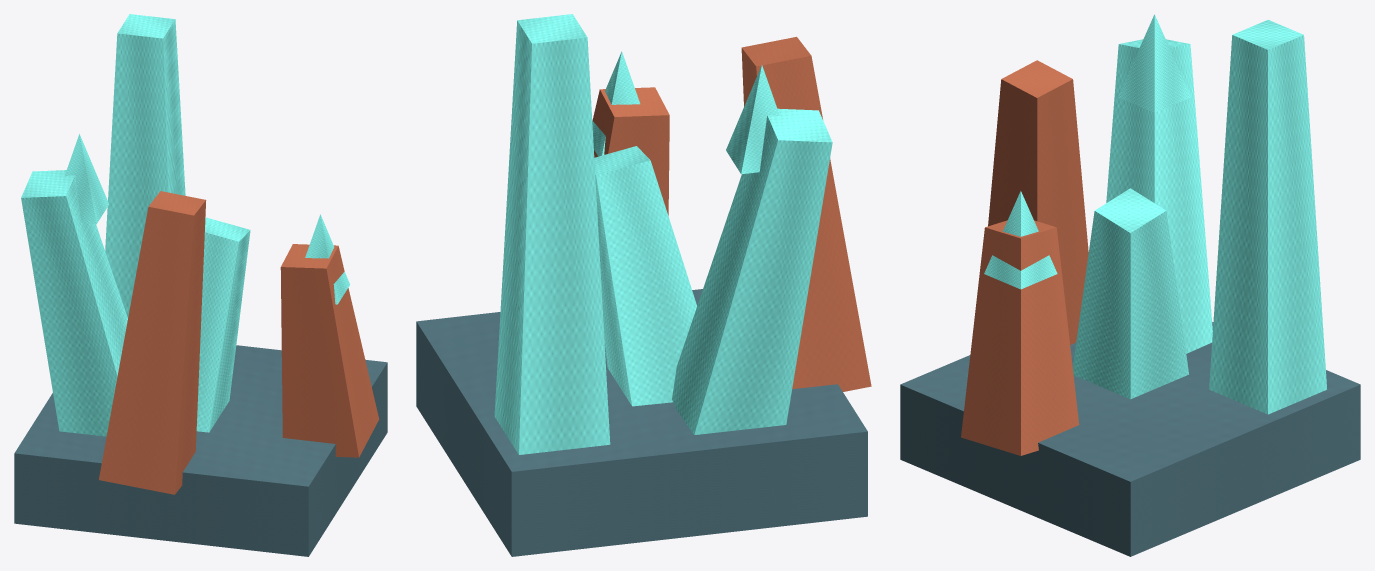
File: atlas100-s042-a04.lod2.glb
3 renders of one model, left to right at view 1: azimuth 30°, elevation 25°; view 2: azimuth 150°, elevation 25°; view 3: azimuth 270°, elevation 25°, orthographic. The views are drawn at different scales.
Parts seen in each view (by area): view 1: atlas100-s042-a04:part-000, atlas100-s042-a04:part-003, atlas100-s042-a04:part-009, atlas100-s042-a04:part-005, atlas100-s042-a04:part-007, atlas100-s042-a04:part-001, atlas100-s042-a04:part-010, atlas100-s042-a04:part-008; view 2: atlas100-s042-a04:part-000, atlas100-s042-a04:part-005, atlas100-s042-a04:part-009, atlas100-s042-a04:part-001, atlas100-s042-a04:part-003, atlas100-s042-a04:part-007, atlas100-s042-a04:part-010, atlas100-s042-a04:part-008; view 3: atlas100-s042-a04:part-000, atlas100-s042-a04:part-005, atlas100-s042-a04:part-007, atlas100-s042-a04:part-001, atlas100-s042-a04:part-003, atlas100-s042-a04:part-009, atlas100-s042-a04:part-010, atlas100-s042-a04:part-008.
Part boxes in pixels (left/top/right/bottom): atlas100-s042-a04:part-000: left=14, top=345, right=387, bottom=556; atlas100-s042-a04:part-003: left=99, top=191, right=206, bottom=494; atlas100-s042-a04:part-009: left=21, top=170, right=127, bottom=436; atlas100-s042-a04:part-005: left=105, top=14, right=185, bottom=317; atlas100-s042-a04:part-007: left=280, top=244, right=379, bottom=457; atlas100-s042-a04:part-001: left=196, top=217, right=250, bottom=432; atlas100-s042-a04:part-010: left=64, top=134, right=109, bottom=224; atlas100-s042-a04:part-008: left=305, top=214, right=349, bottom=304; atlas100-s042-a04:part-000: left=416, top=289, right=867, bottom=556; atlas100-s042-a04:part-005: left=494, top=14, right=610, bottom=454; atlas100-s042-a04:part-009: left=672, top=108, right=832, bottom=434; atlas100-s042-a04:part-001: left=594, top=146, right=696, bottom=406; atlas100-s042-a04:part-003: left=741, top=36, right=871, bottom=391; atlas100-s042-a04:part-007: left=592, top=87, right=669, bottom=215; atlas100-s042-a04:part-010: left=726, top=65, right=779, bottom=174; atlas100-s042-a04:part-008: left=592, top=51, right=640, bottom=156; atlas100-s042-a04:part-000: left=900, top=322, right=1360, bottom=556; atlas100-s042-a04:part-005: left=1209, top=20, right=1326, bottom=414; atlas100-s042-a04:part-007: left=961, top=220, right=1079, bottom=455; atlas100-s042-a04:part-001: left=1072, top=188, right=1188, bottom=399; atlas100-s042-a04:part-003: left=988, top=60, right=1088, bottom=344; atlas100-s042-a04:part-009: left=1106, top=39, right=1212, bottom=353; atlas100-s042-a04:part-010: left=1118, top=14, right=1191, bottom=112; atlas100-s042-a04:part-008: left=984, top=191, right=1057, bottom=289.
Bounding box in the file's own units: 1.07 × 1.1 × 1.07.
Materials: 3 (3 with a texture image).
